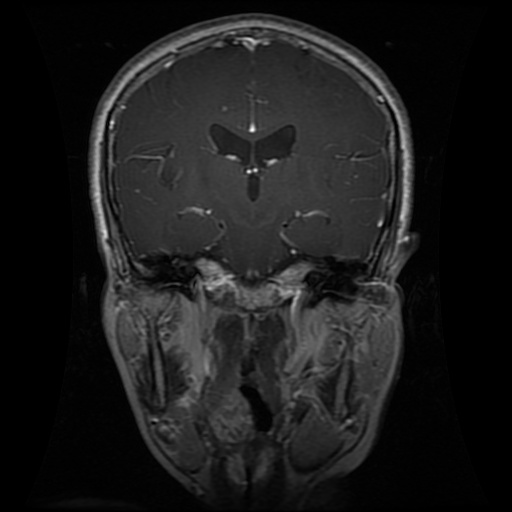glioma: (122, 138, 188, 190)
